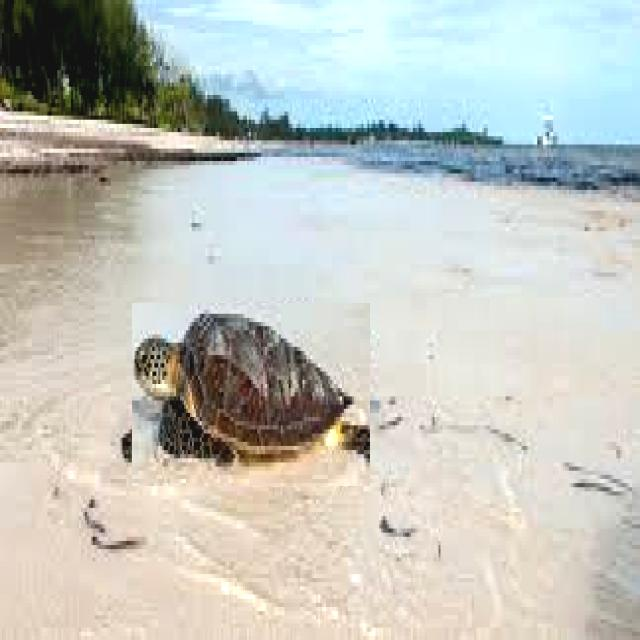Sea turtle: (132, 303, 370, 486)
